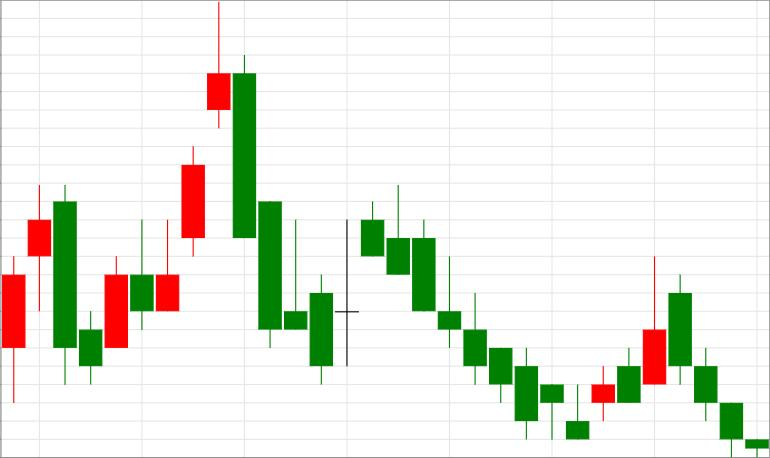shooting_star_fall: (105, 2, 231, 348)
